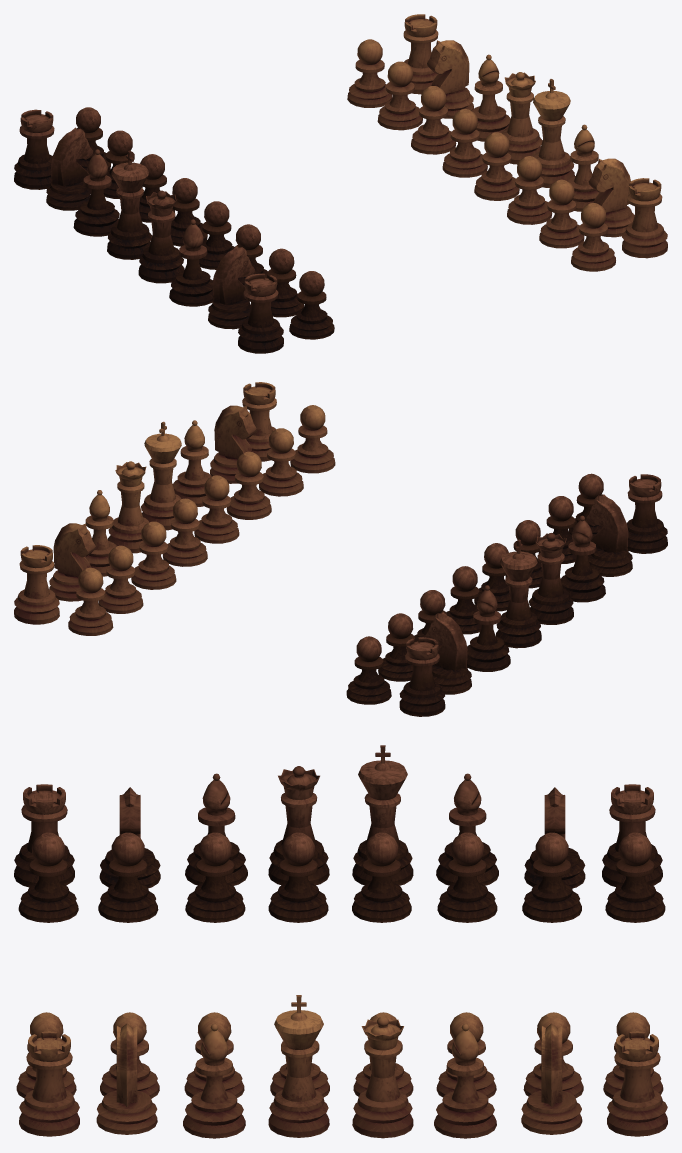
3 views of the same model, one above another, from view 1: azimuth 30°, elevation 25°; view 2: azimuth 150°, elevation 25°; view 3: azimuth 270°, elevation 25° (orthographic). The views are drawn at different scales.
Visible parts, largest first — view 1: King_Dark_7, Knight_2_Dark_8, Queen_Dark_6, Tower_Dark_10, Tower_2_Light_21, Knight_Dark_9, King_Light_23, Tower_2_Dark_5, Knight_2_Light_24, Knight_Light_25, Bishop_Dark_4, Queen_Light_22 (+20 smaller); view 2: King_Dark_7, Knight_Dark_9, Tower_2_Dark_5, Queen_Dark_6, Tower_Light_26, King_Light_23, Tower_Dark_10, Knight_2_Dark_8, Knight_Light_25, Knight_2_Light_24, Queen_Light_22, Bishop_2_Dark_11 (+20 smaller); view 3: King_Light_23, Queen_Light_22, Tower_2_Light_21, Tower_Light_26, Bishop_2_Light_27, Bishop_Light_20, King_Dark_7, Knight_2_Light_24, Knight_Light_25, Pawn_2_Dark_12, Pawn_Dark_18, Pawn_3_Dark_3 (+20 smaller).
Boxes of the visible parts, x1,y1,x2,y2 form: King_Dark_7: (107, 150, 152, 259); Knight_2_Dark_8: (46, 127, 93, 210); Queen_Dark_6: (138, 190, 184, 283); Tower_Dark_10: (238, 273, 283, 353); Tower_2_Light_21: (622, 178, 667, 258); Knight_Dark_9: (208, 246, 254, 329); King_Light_23: (533, 79, 574, 187); Tower_2_Dark_5: (14, 109, 54, 189); Knight_2_Light_24: (588, 158, 634, 237); Knight_Light_25: (427, 40, 473, 118); Bishop_Dark_4: (169, 219, 212, 306); Queen_Light_22: (502, 72, 542, 164); King_Dark_7: (496, 539, 541, 648); Knight_Dark_9: (586, 494, 632, 576); Tower_2_Dark_5: (399, 637, 445, 716); Queen_Dark_6: (529, 533, 573, 624); Tower_Light_26: (14, 545, 59, 624); King_Light_23: (141, 421, 181, 530); Tower_Dark_10: (627, 474, 667, 553); Knight_2_Dark_8: (425, 612, 471, 694); Knight_Light_25: (49, 523, 95, 601); Knight_2_Light_24: (210, 405, 256, 483); Queen_Light_22: (108, 461, 148, 553); Bishop_2_Dark_11: (467, 585, 510, 671); King_Light_23: (268, 995, 329, 1137); Queen_Light_22: (352, 1016, 413, 1138); Tower_2_Light_21: (19, 1031, 79, 1136); Tower_Light_26: (607, 1031, 667, 1136); Bishop_2_Light_27: (183, 1024, 245, 1138); Bishop_Light_20: (434, 1024, 496, 1138); King_Dark_7: (352, 745, 413, 885); Knight_2_Light_24: (96, 1023, 157, 1134); Knight_Light_25: (521, 1023, 582, 1134); Pawn_2_Dark_12: (98, 832, 158, 922); Pawn_Dark_18: (18, 832, 78, 922); Pawn_3_Dark_3: (185, 832, 245, 922).
Size of the model in its own units: 0.9967 by 0.2182 by 0.9952.
Materials: 2 (2 with a texture image).
